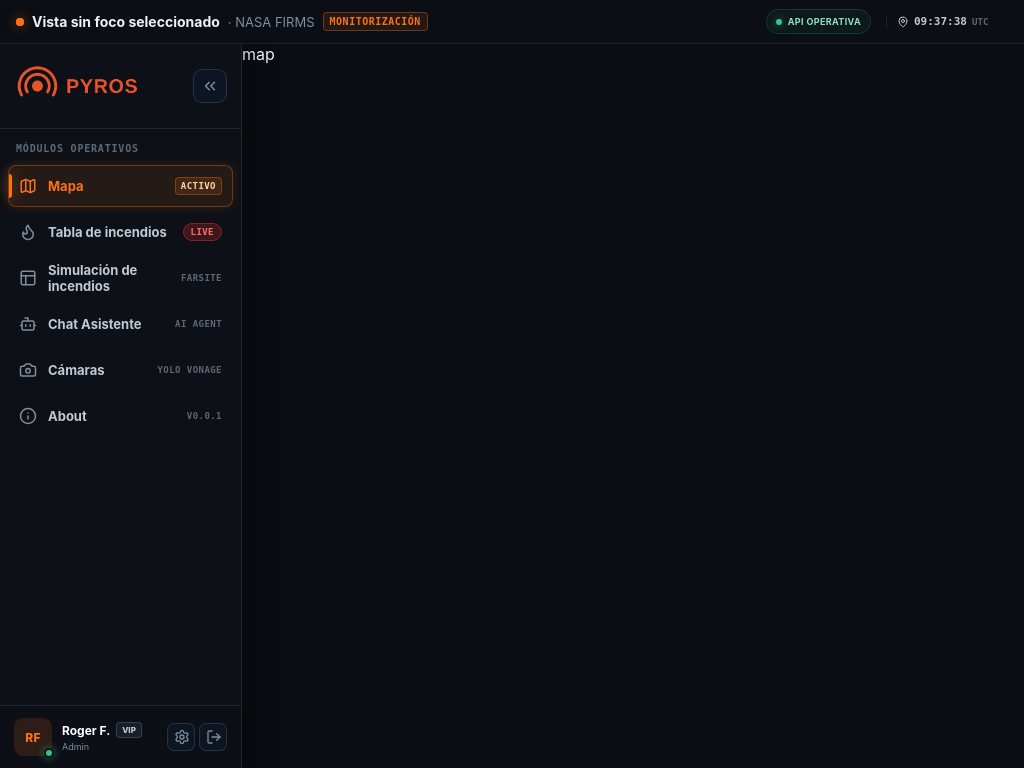
AppShell tactical layout › opens the about module from the sidebar
Step 1. Click the button "About v0.0.1" → (120, 416), box [8, 395, 233, 437]
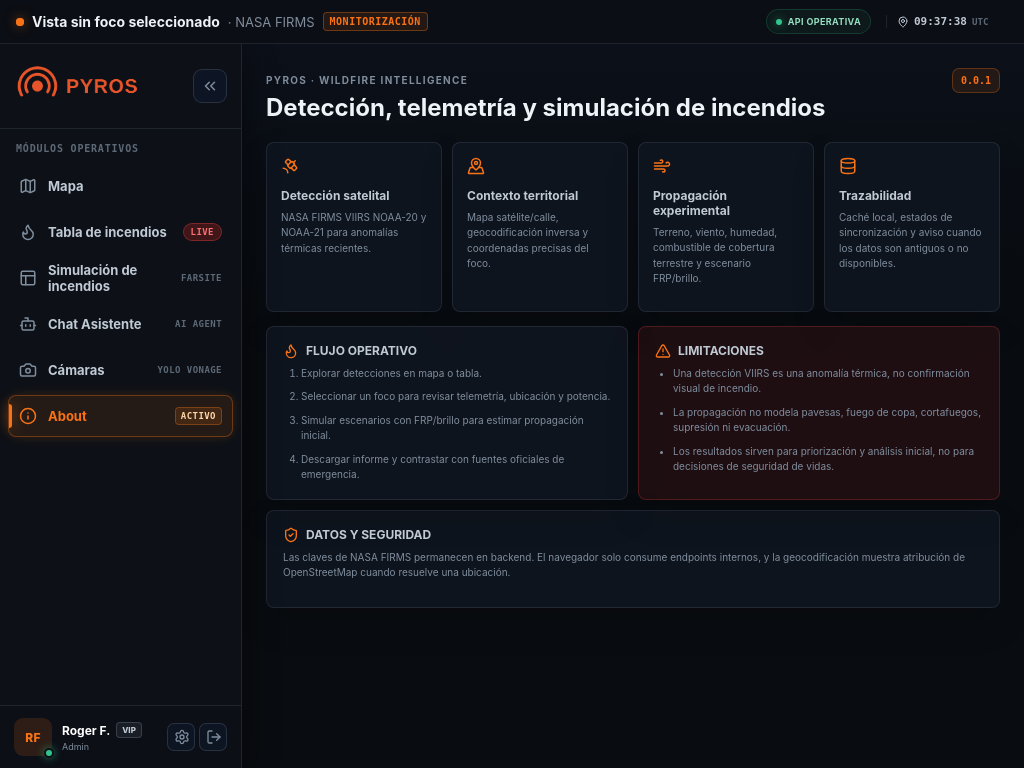
Result: the element named "About PYROS" is shown
Result: the heading "Detección, telemetría y simulación de incendios" is shown at [266, 94, 826, 122]
Result: the heading "Limitaciones" is shown at [655, 343, 764, 359]
